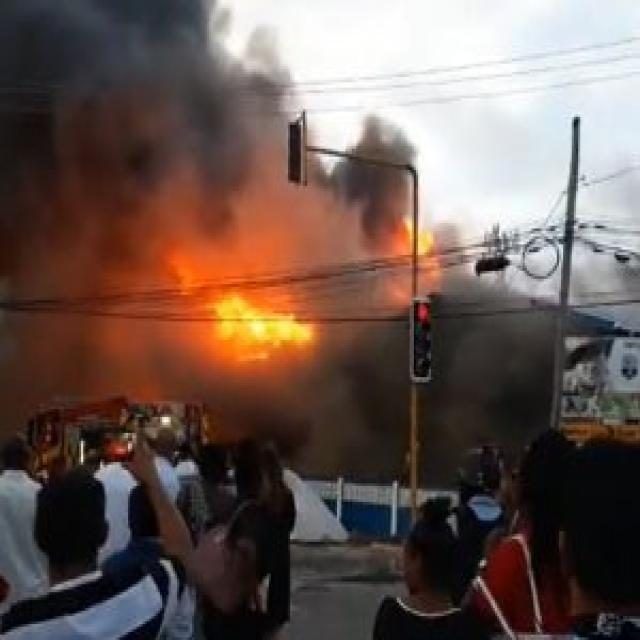Fire: (201, 298, 332, 370)
Smoke: (0, 6, 289, 322), (319, 132, 432, 262)
